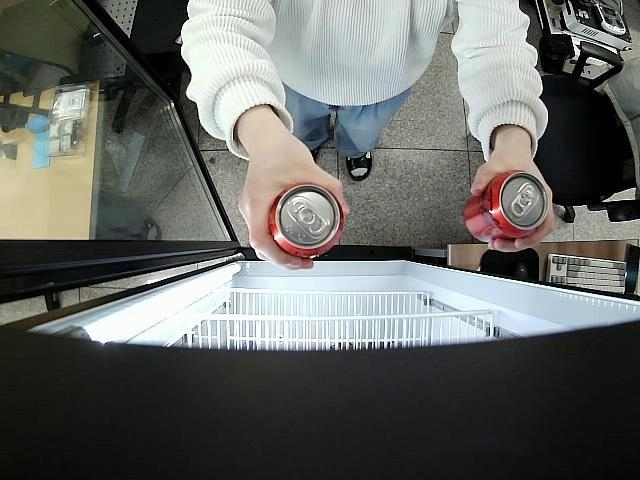11_cocaColaZero: (266, 182, 347, 260), (466, 170, 550, 244)
